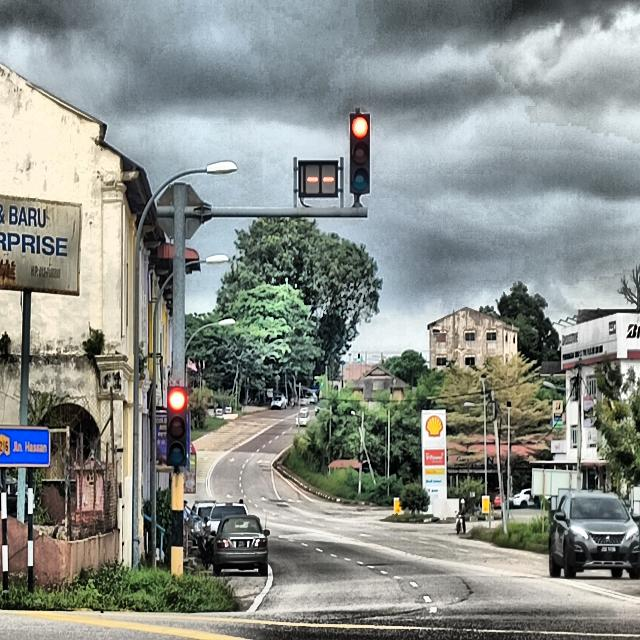red: (165, 383, 188, 468), (349, 114, 370, 194)
